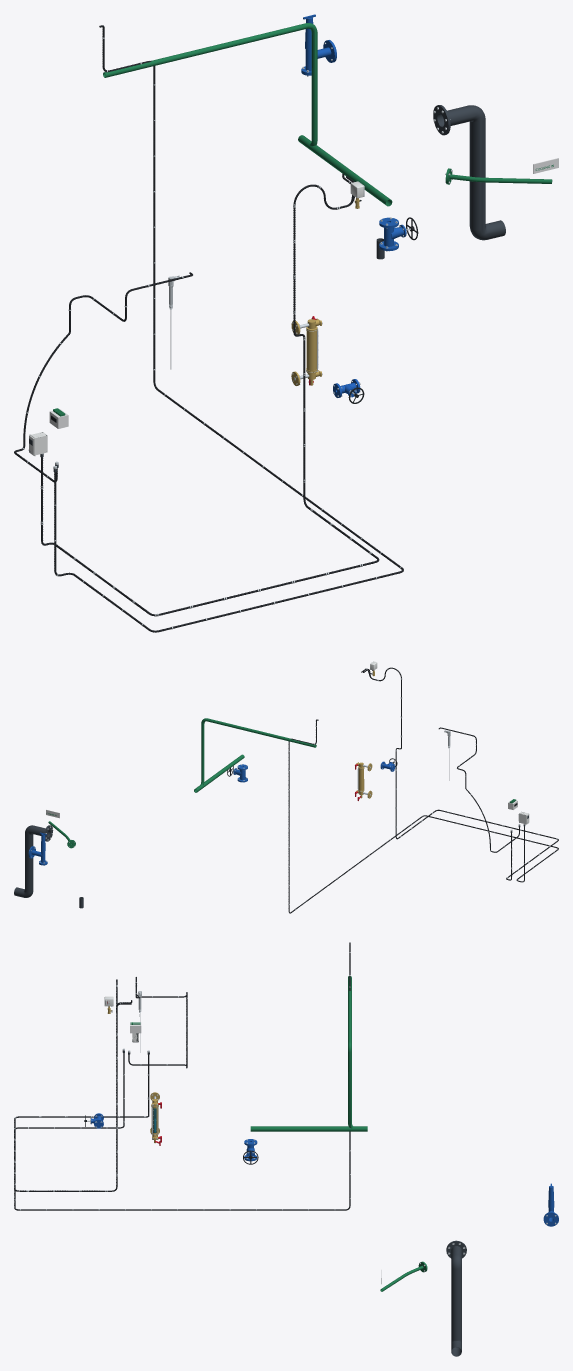
File: s4000-4-BX5nipY0.glb
3 renders of one model, top to bottom at view 1: azimuth 30°, elevation 25°; view 2: azimuth 150°, elevation 25°; view 3: azimuth 270°, elevation 25°, orthographic. The views are drawn at different scales.
Visible parts, largest first — view 1: mod_direct_drive_cable / black, bdv_water_drain / dark, to_direct / green, wiring_pressure_switch_3 / black, wiring_pressure_transmitter / black, sight_glasses_2 / sight_glasses_2_0.npz, wiring_low_level_2 / black, pump_delivery / green, flash_steam_common / blue; view 2: mod_direct_drive_cable / black, bdv_water_drain / dark, wiring_pressure_switch_3 / black, to_direct / green, wiring_pressure_transmitter / black, sight_glasses_2 / sight_glasses_2_0.npz, wiring_low_level_2 / black; view 3: bdv_water_drain / dark, mod_direct_drive_cable / black, wiring_pressure_switch_3 / black, pump_delivery / green, wiring_pressure_transmitter / black, to_direct / green.
Part boxes in pixels (x1,y1,x2,y2): mod_direct_drive_cable / black: [54, 25, 403, 632]; bdv_water_drain / dark: [433, 105, 505, 240]; to_direct / green: [103, 23, 317, 146]; wiring_pressure_switch_3 / black: [41, 176, 379, 616]; wiring_pressure_transmitter / black: [41, 173, 378, 616]; sight_glasses_2 / sight_glasses_2_0.npz: [291, 316, 322, 385]; wiring_low_level_2 / black: [14, 272, 192, 482]; pump_delivery / green: [298, 135, 392, 206]; flash_steam_common / blue: [301, 14, 336, 75]; mod_direct_drive_cable / black: [288, 719, 558, 913]; bdv_water_drain / dark: [14, 825, 53, 897]; wiring_pressure_switch_3 / black: [361, 667, 558, 880]; to_direct / green: [194, 718, 316, 792]; wiring_pressure_transmitter / black: [363, 667, 558, 880]; sight_glasses_2 / sight_glasses_2_0.npz: [355, 762, 372, 800]; wiring_low_level_2 / black: [438, 727, 519, 852]; bdv_water_drain / dark: [446, 1240, 466, 1356]; mod_direct_drive_cable / black: [14, 942, 350, 1210]; wiring_pressure_switch_3 / black: [14, 979, 149, 1191]; pump_delivery / green: [250, 1126, 367, 1131]; wiring_pressure_transmitter / black: [14, 979, 149, 1191]; to_direct / green: [348, 976, 353, 1128].
Bounding box in the file's own units: 5.87 × 3.03 × 5.82.
